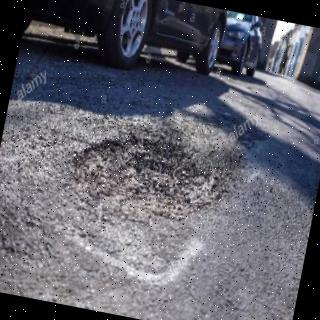pothole: (68, 121, 251, 223)
